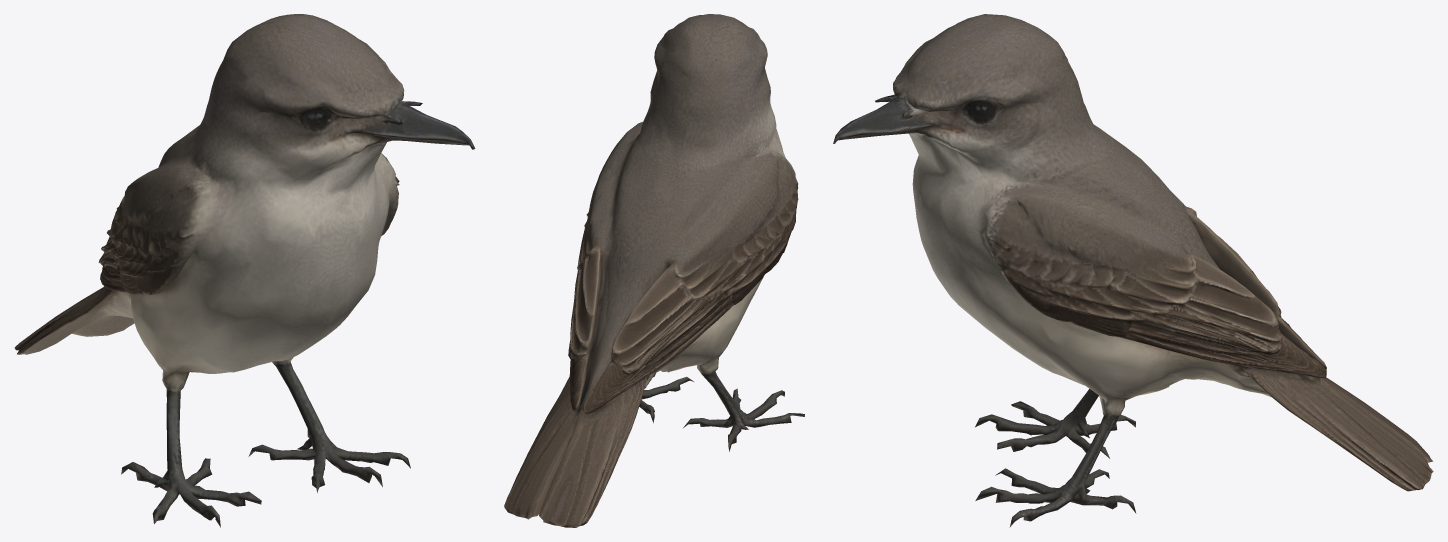
File: ave_tyrannus_melancholicus.fbx
3 views of the same model, side by side, from view 1: azimuth 30°, elevation 25°; view 2: azimuth 150°, elevation 25°; view 3: azimuth 270°, elevation 25° (orthographic). The views are drawn at different scales.
Parts seen in each view (by area): view 1: tripo_node_1767acef; view 2: tripo_node_1767acef; view 3: tripo_node_1767acef.
Part boxes in pixels (x1=…): tripo_node_1767acef: x1=14, y1=14, x2=475, y2=527; tripo_node_1767acef: x1=504, y1=14, x2=804, y2=527; tripo_node_1767acef: x1=833, y1=14, x2=1433, y2=527.
Size of the model in its own units: 45.14 by 81.87 by 98.43.
Materials: 1 (1 with a texture image).
